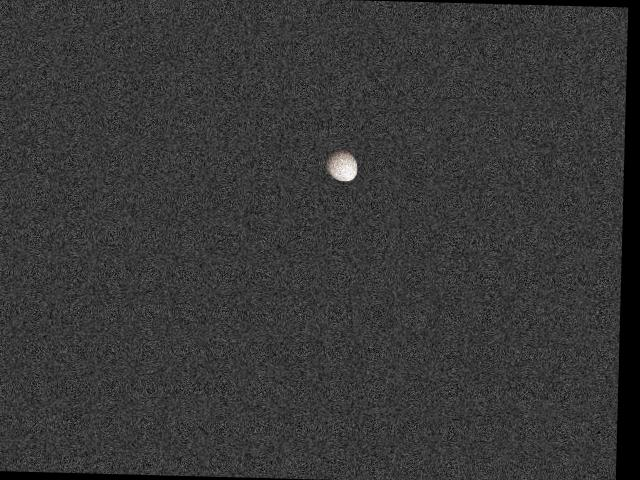egg: (323, 148, 357, 181)
